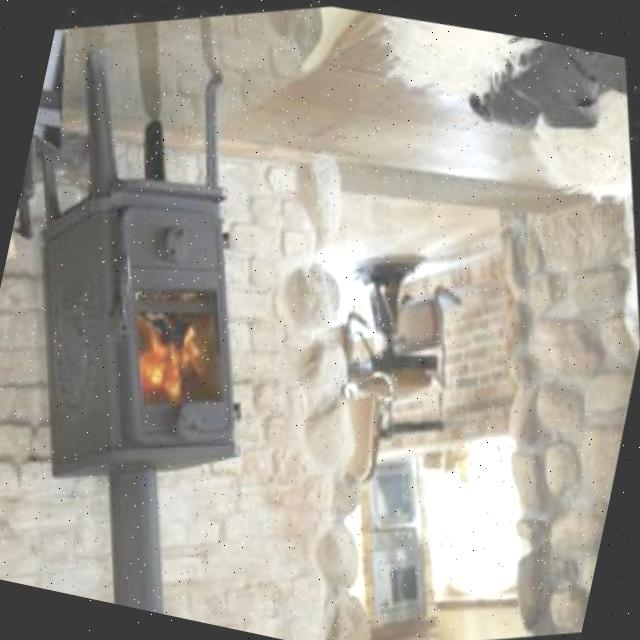fire: (129, 293, 225, 411)
